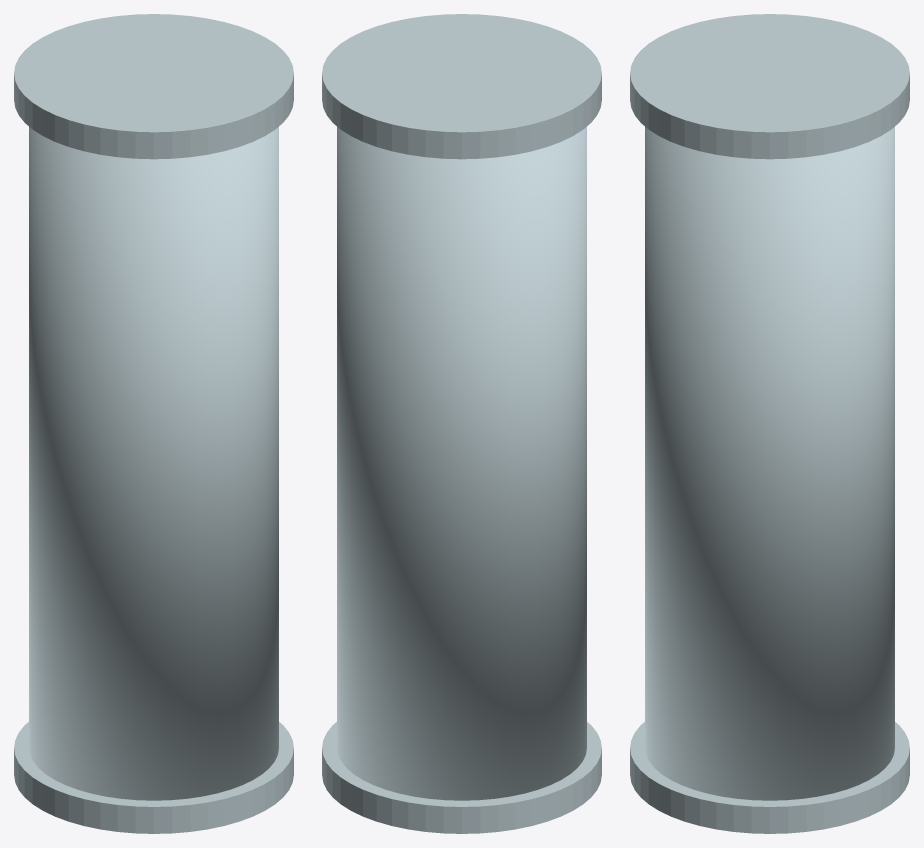
File: A-NEW-20261026-HOURGLASS-001_LOD1_R2.fbx
The picture shows the model from 3 angles, left to right: view 1: azimuth 30°, elevation 25°; view 2: azimuth 150°, elevation 25°; view 3: azimuth 270°, elevation 25°; orthographic projection.
Parts seen in each view (by area): view 1: protective clear sleeve, clear flange disk.001, clear flange disk; view 2: protective clear sleeve, clear flange disk.001, clear flange disk; view 3: protective clear sleeve, clear flange disk.001, clear flange disk.
Boxes of the visible parts, <box> form: protective clear sleeve: <box>29,127,278,800</box>; clear flange disk.001: <box>14,14,293,159</box>; clear flange disk: <box>14,722,293,833</box>; protective clear sleeve: <box>337,127,586,800</box>; clear flange disk.001: <box>322,14,601,159</box>; clear flange disk: <box>322,722,601,833</box>; protective clear sleeve: <box>645,127,894,800</box>; clear flange disk.001: <box>630,14,909,159</box>; clear flange disk: <box>630,722,909,833</box>.
Size of the model in its own units: 9.4 by 26 by 9.4.
